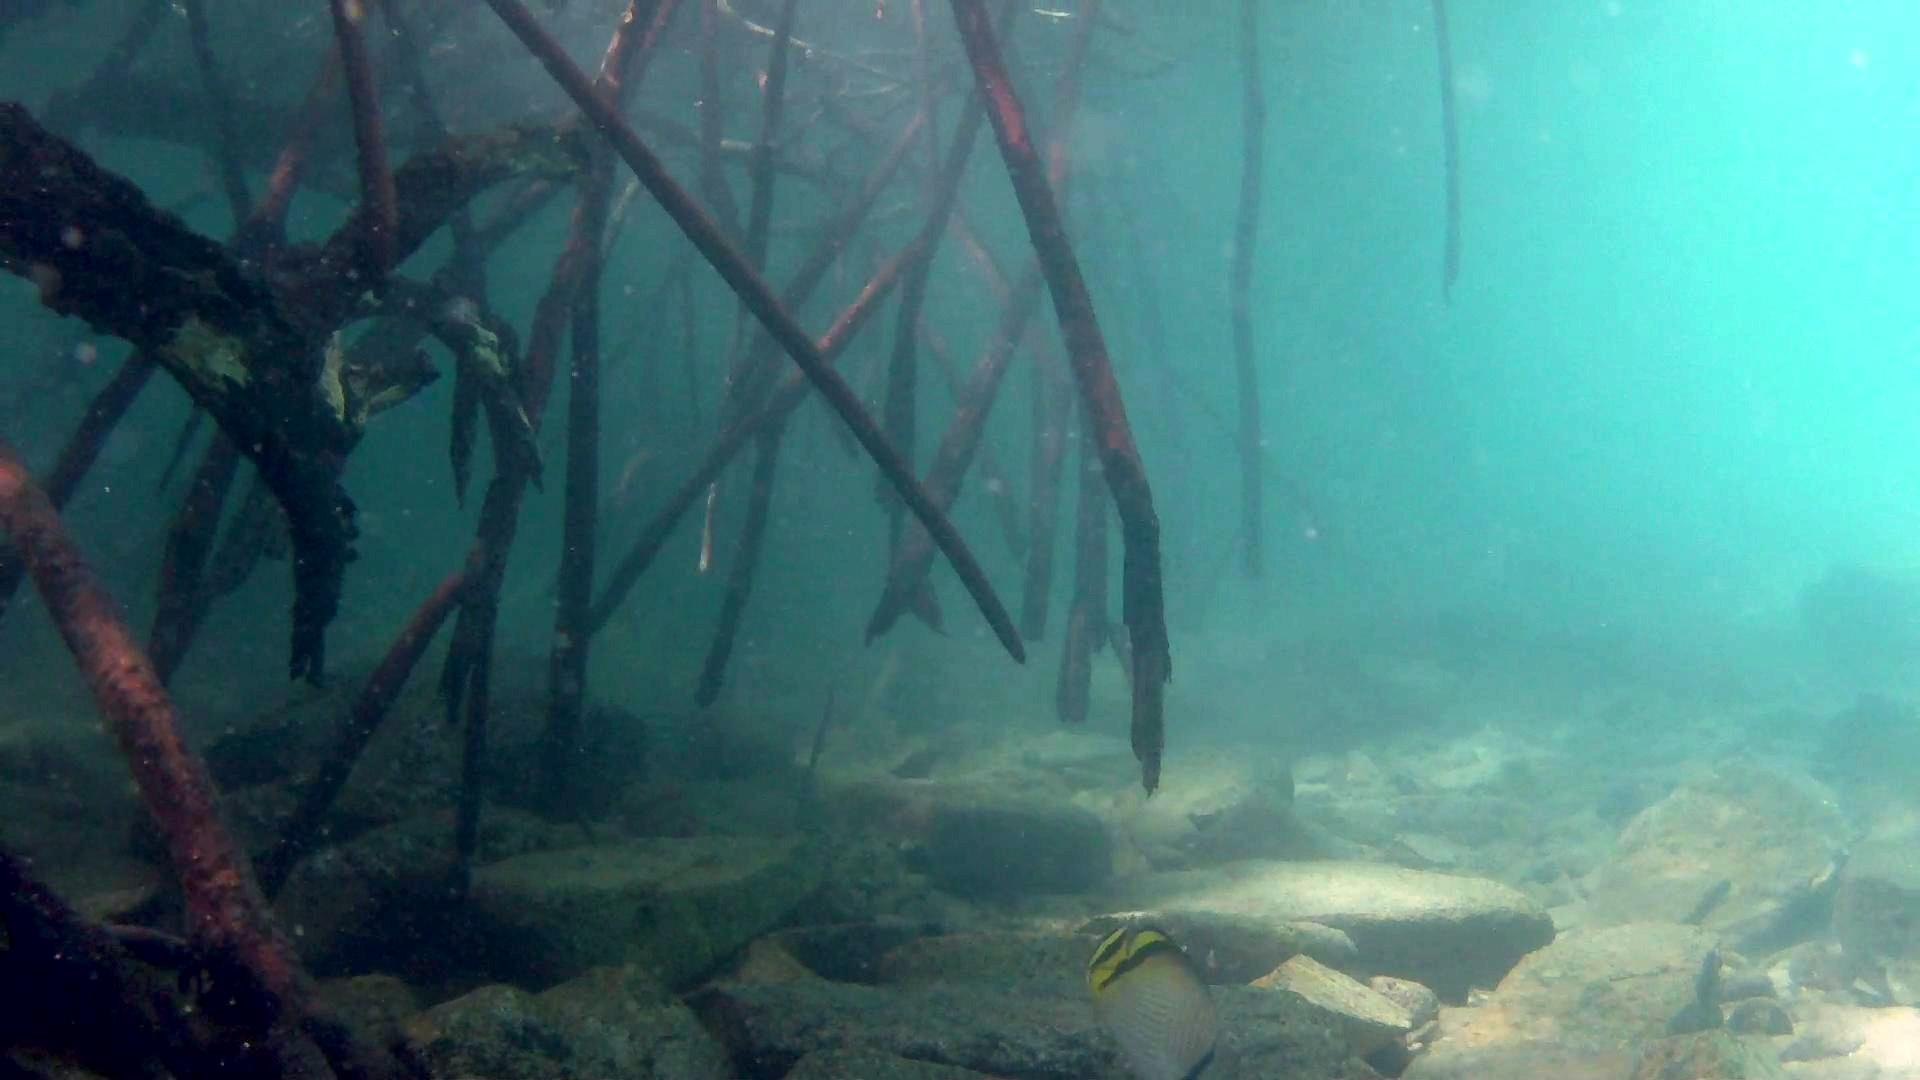chaetodon vagabundus: (1081, 922, 1224, 1080)
